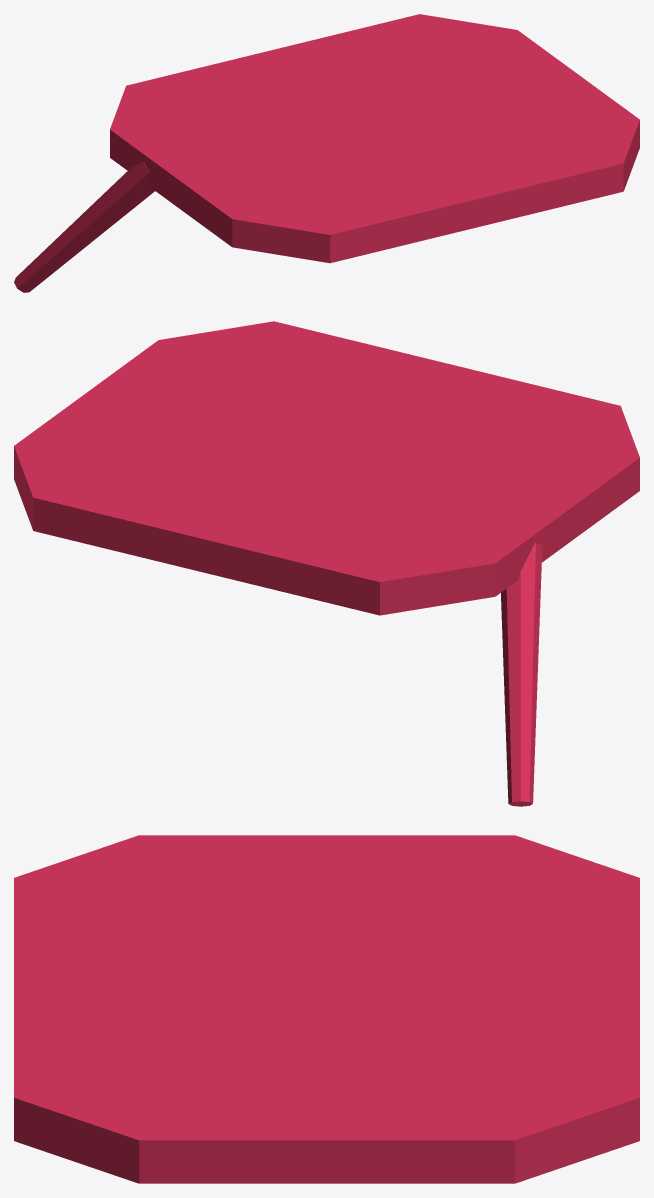
File: sahur__headband.glb
The picture shows the model from 3 angles, top to bottom: view 1: azimuth 30°, elevation 25°; view 2: azimuth 150°, elevation 25°; view 3: azimuth 270°, elevation 25°; orthographic projection. The views are drawn at different scales.
Visible parts, largest first — view 1: Neon Headband; view 2: Neon Headband; view 3: Neon Headband.
Boxes of the visible parts, <box> form: Neon Headband: <box>14,14,639,292</box>; Neon Headband: <box>14,321,639,806</box>; Neon Headband: <box>14,835,639,1183</box>.
Bounding box in the file's own units: 0.6786 × 0.2373 × 0.5101.
